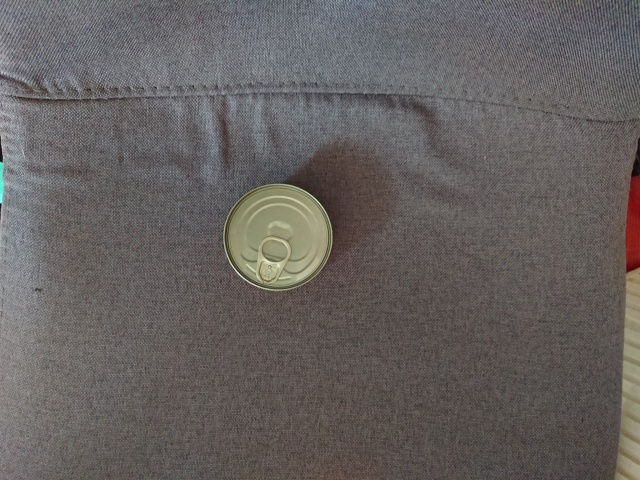Gavrilovic Pork Liver Pate 100g: (220, 181, 336, 294)
